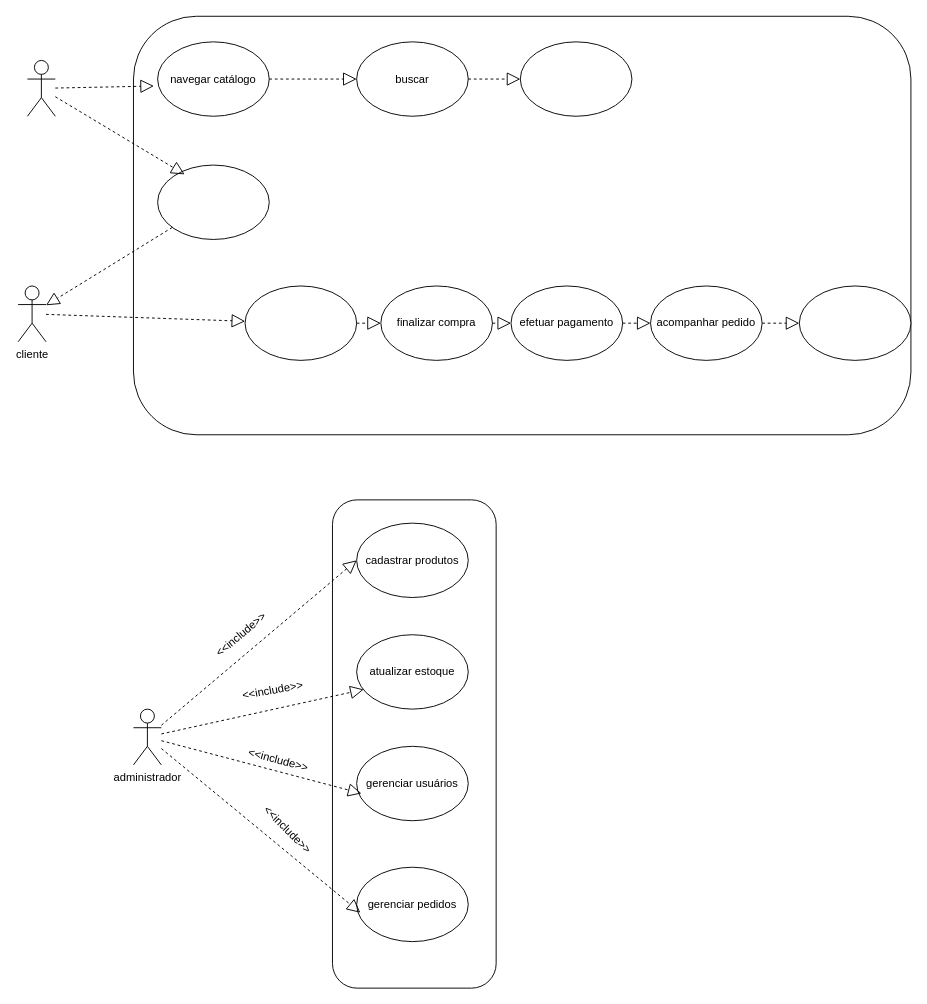
This 927x1004 diagram has some shape labels left out. The shapes that lost their labels are listed below. From the top down, each one's box as (x1, y1, x2, y2) in pixels, then its label:
(27, 60, 55, 116): visitante
(519, 41, 632, 116): vizualizar produto
(157, 164, 269, 239): criar conta
(244, 285, 357, 360): adicionar produto ao carrinho
(798, 285, 911, 360): avaliar produto
